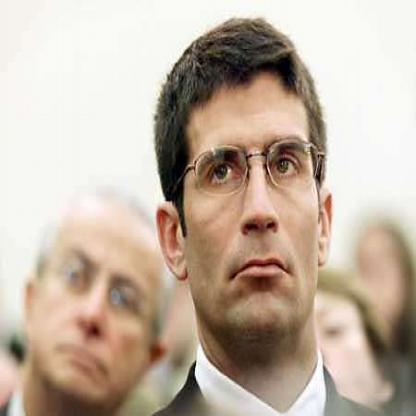face: (175, 26, 326, 353), (355, 229, 407, 329), (1, 1, 2, 3)
